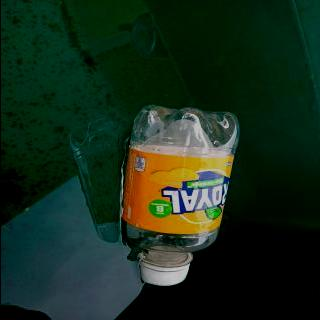bottle: (115, 105, 242, 288)
